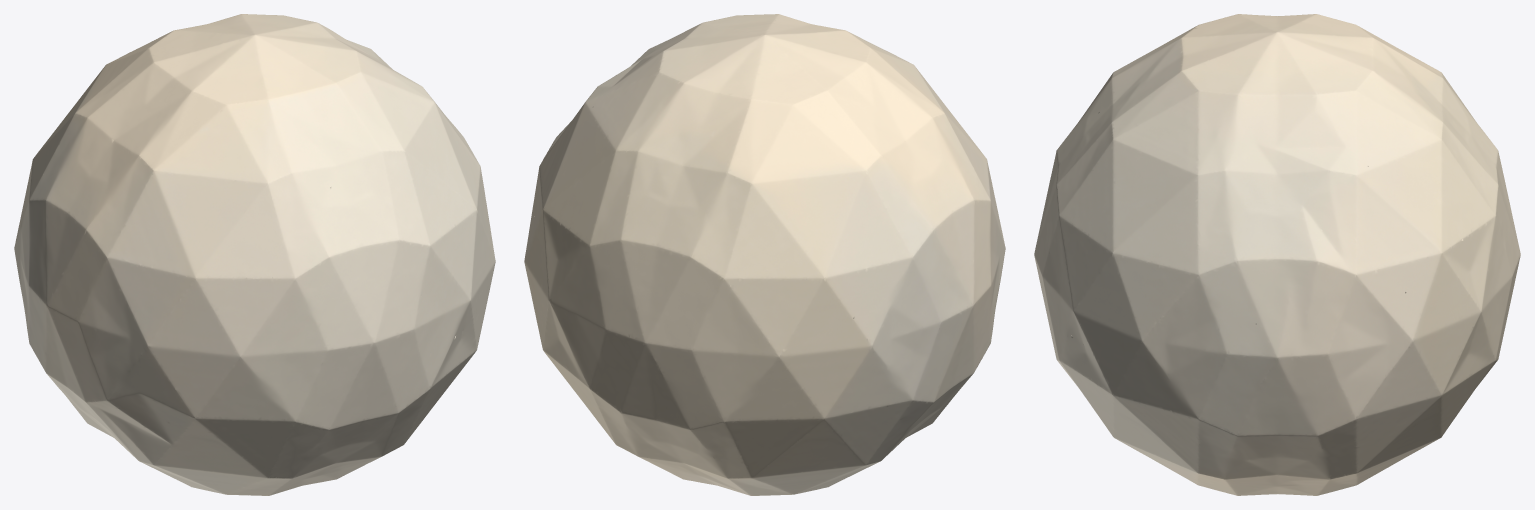
File: Globe.glb
3 views of the same model, side by side, from view 1: azimuth 30°, elevation 25°; view 2: azimuth 150°, elevation 25°; view 3: azimuth 270°, elevation 25° (orthographic).
Size of the model in its own units: 1.88 by 1.9 by 1.88.
1 material, 1 textured.
